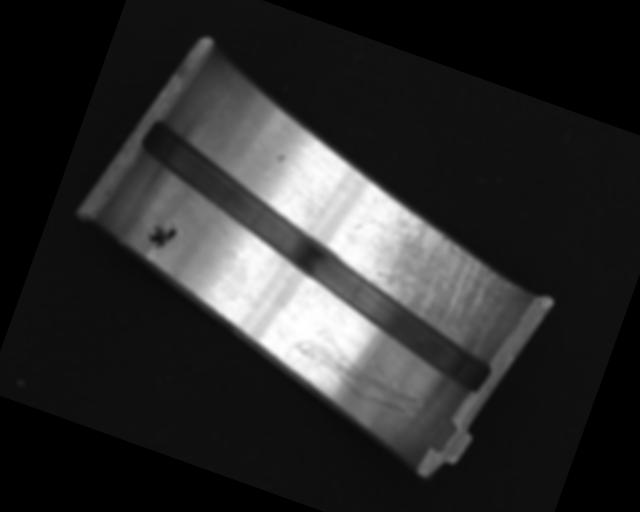blot: (143, 214, 179, 254)
bruise: (274, 152, 288, 166)
gap: (96, 114, 535, 395)
nick: (283, 324, 432, 421)
scratch: (338, 190, 535, 362)
